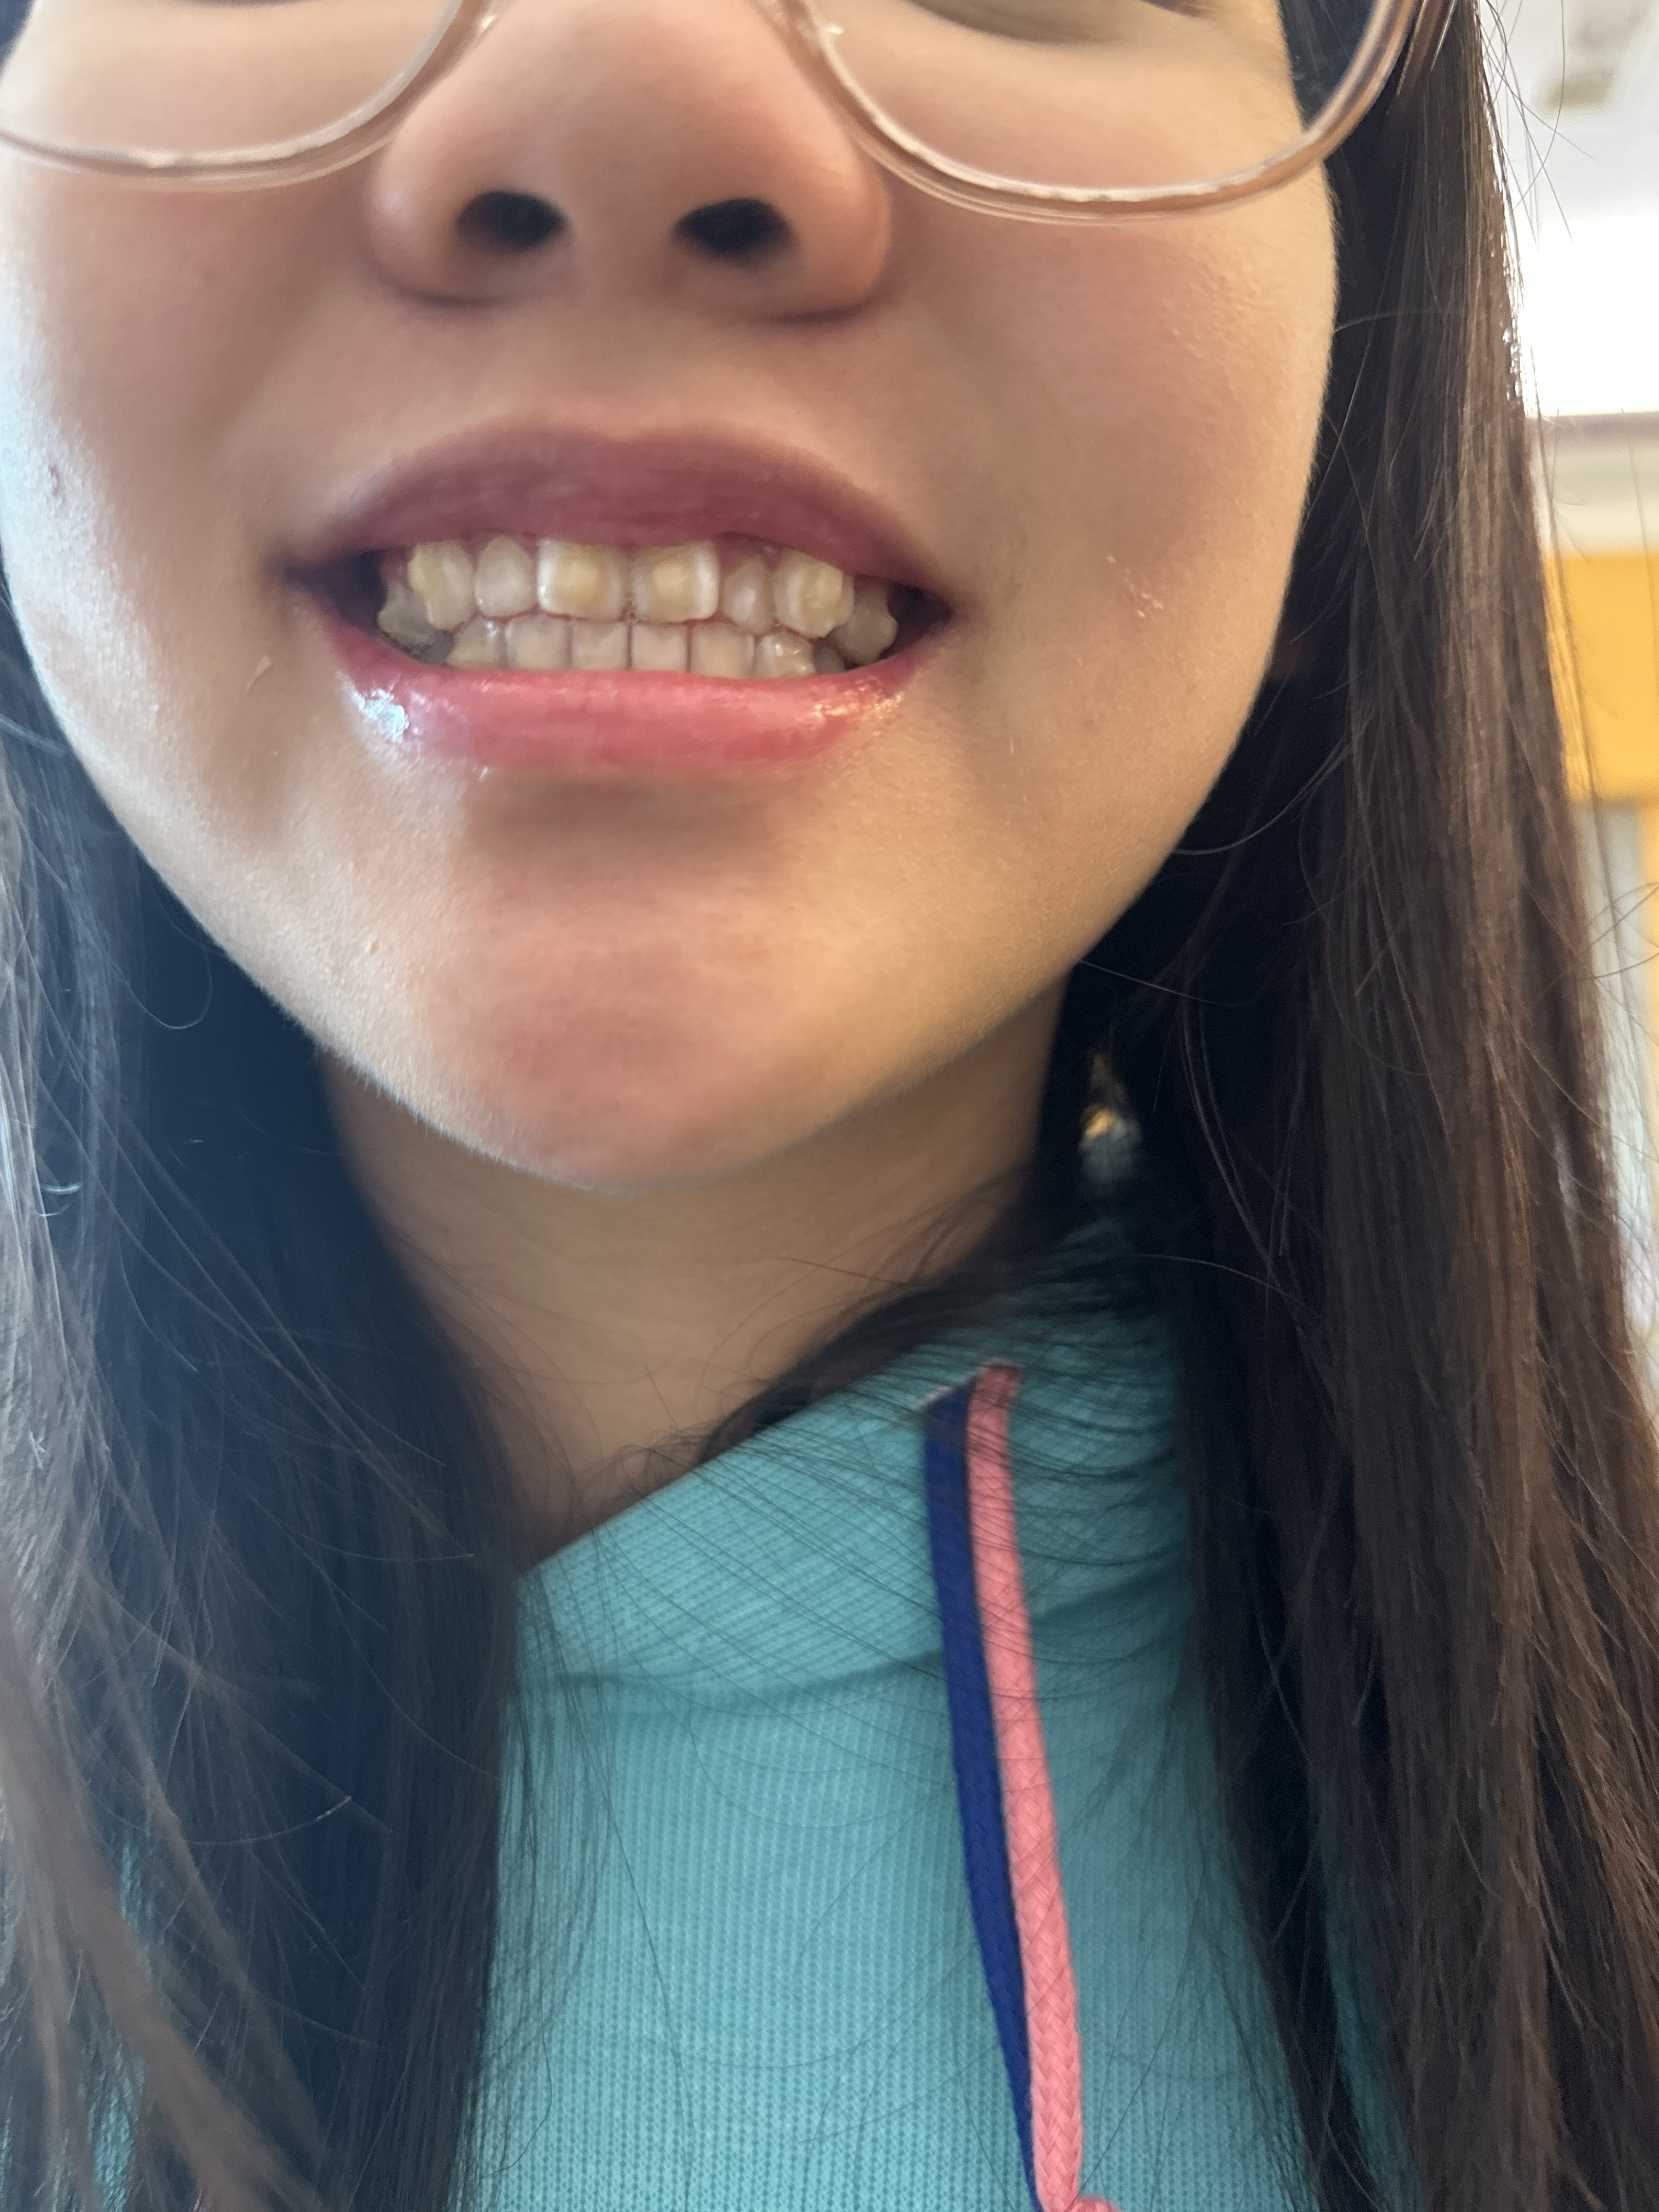teeth: (542, 536, 626, 620), (638, 538, 714, 625), (784, 542, 854, 625), (406, 542, 469, 622), (477, 536, 530, 611), (727, 550, 770, 625), (507, 625, 568, 672), (701, 629, 749, 674), (638, 629, 680, 681), (577, 629, 622, 664)
